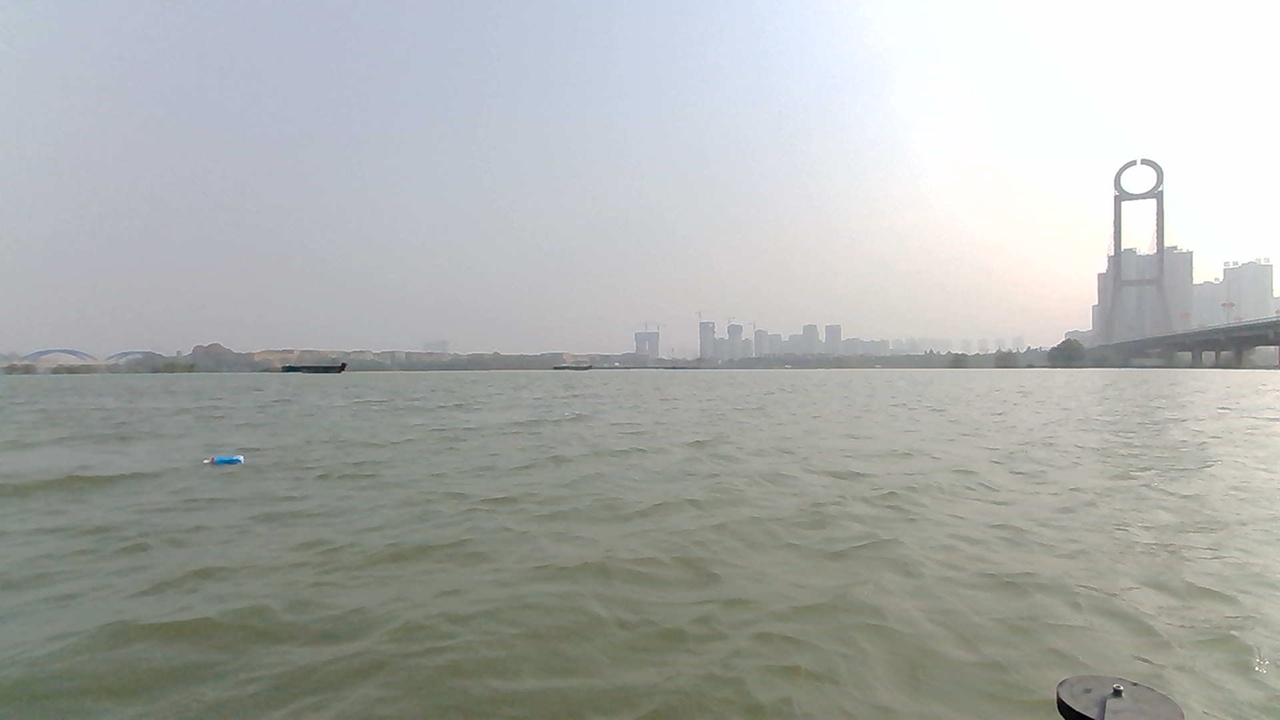bottle: (201, 452, 251, 476)
